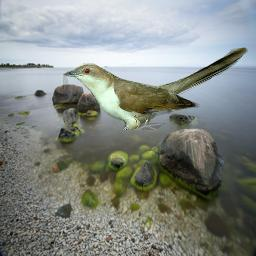Cuckoo: (63, 46, 248, 130)
